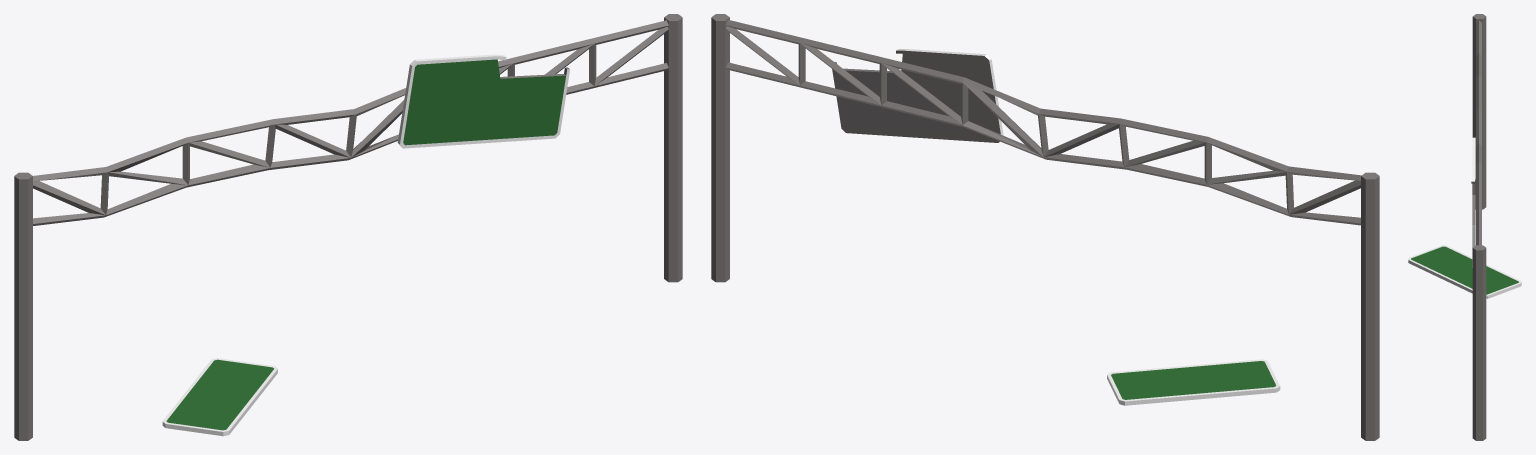
File: apocalypse_mainroad-sign-green-apocalypse-b.fbx
3 renders of one model, left to right at view 1: azimuth 30°, elevation 25°; view 2: azimuth 150°, elevation 25°; view 3: azimuth 270°, elevation 25°, orthographic. The views are drawn at different scales.
Parts seen in each view (by area): view 1: apocalypse_mainroad_sign_green_apocalypse_b; view 2: apocalypse_mainroad_sign_green_apocalypse_b; view 3: apocalypse_mainroad_sign_green_apocalypse_b.
Boxes of the visible parts, x1=… form: apocalypse_mainroad_sign_green_apocalypse_b: x1=14, y1=14, x2=682, y2=440; apocalypse_mainroad_sign_green_apocalypse_b: x1=711, y1=14, x2=1379, y2=440; apocalypse_mainroad_sign_green_apocalypse_b: x1=1408, y1=14, x2=1521, y2=440.
Size of the model in its own units: 200 by 82.01 by 40.52.
